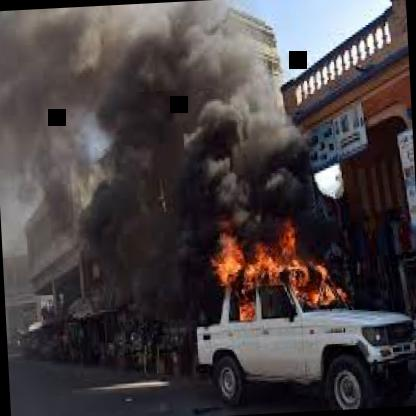fire: (180, 132, 364, 325), (138, 35, 268, 214)
